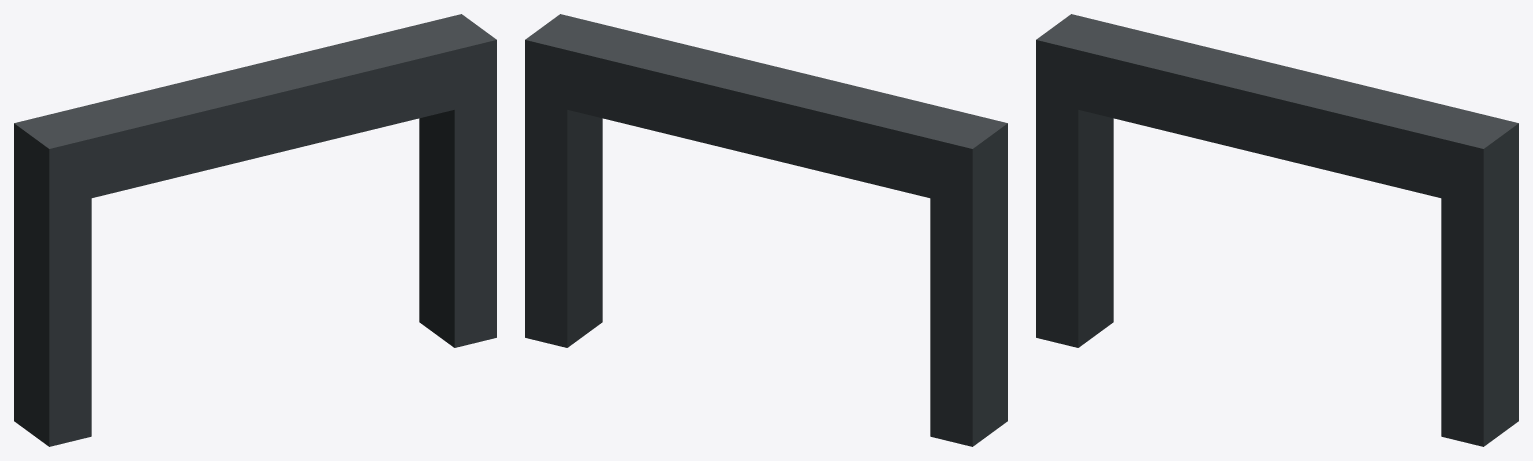
The model's file is BridgeColumn_01.fbx.
The picture shows the model from 3 angles, left to right: view 1: azimuth 30°, elevation 25°; view 2: azimuth 150°, elevation 25°; view 3: azimuth 330°, elevation 25°; orthographic projection.
Parts seen in each view (by area): view 1: BridgeColumn_01; view 2: BridgeColumn_01; view 3: BridgeColumn_01.
Boxes of the visible parts, x1,y1,x2,y2 form: BridgeColumn_01: [14, 14, 496, 446]; BridgeColumn_01: [525, 14, 1007, 446]; BridgeColumn_01: [1036, 14, 1518, 446].
Size of the model in its own units: 890 by 566 by 122.
1 material, 1 textured.
